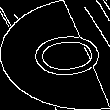O_E: (8, 28, 102, 82)
